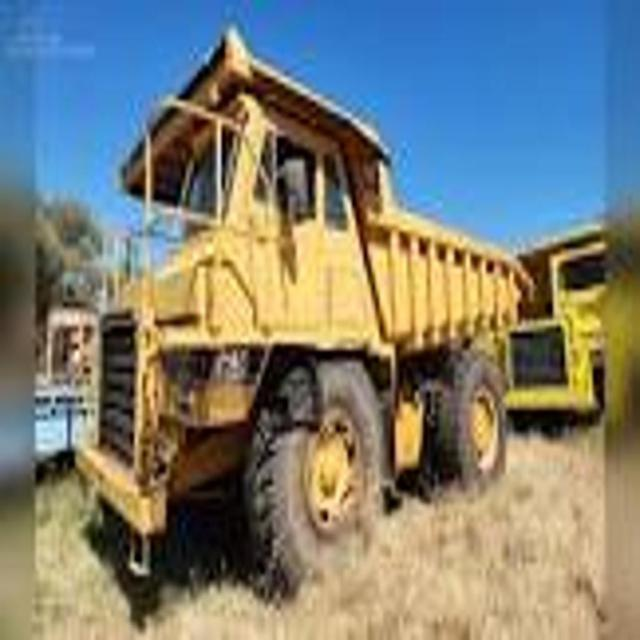dump_truck: (71, 18, 532, 602)
